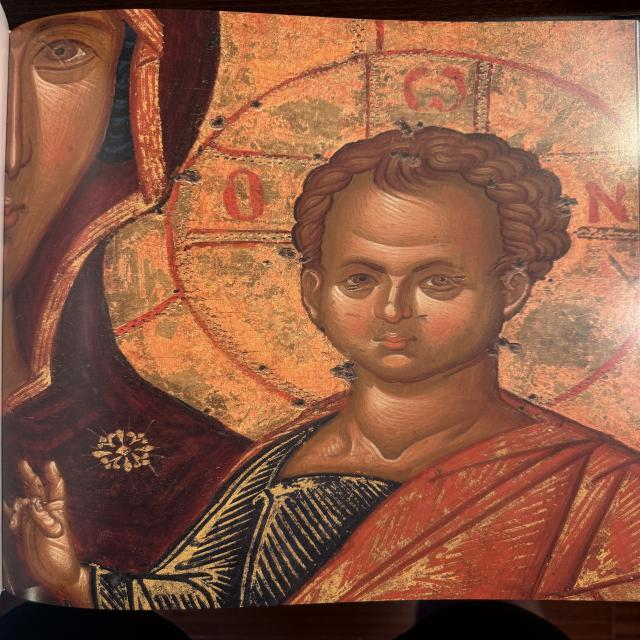christ_child: (34, 52, 640, 598)
christ_hand: (7, 455, 117, 604)
mary_and_child: (13, 10, 640, 601)
